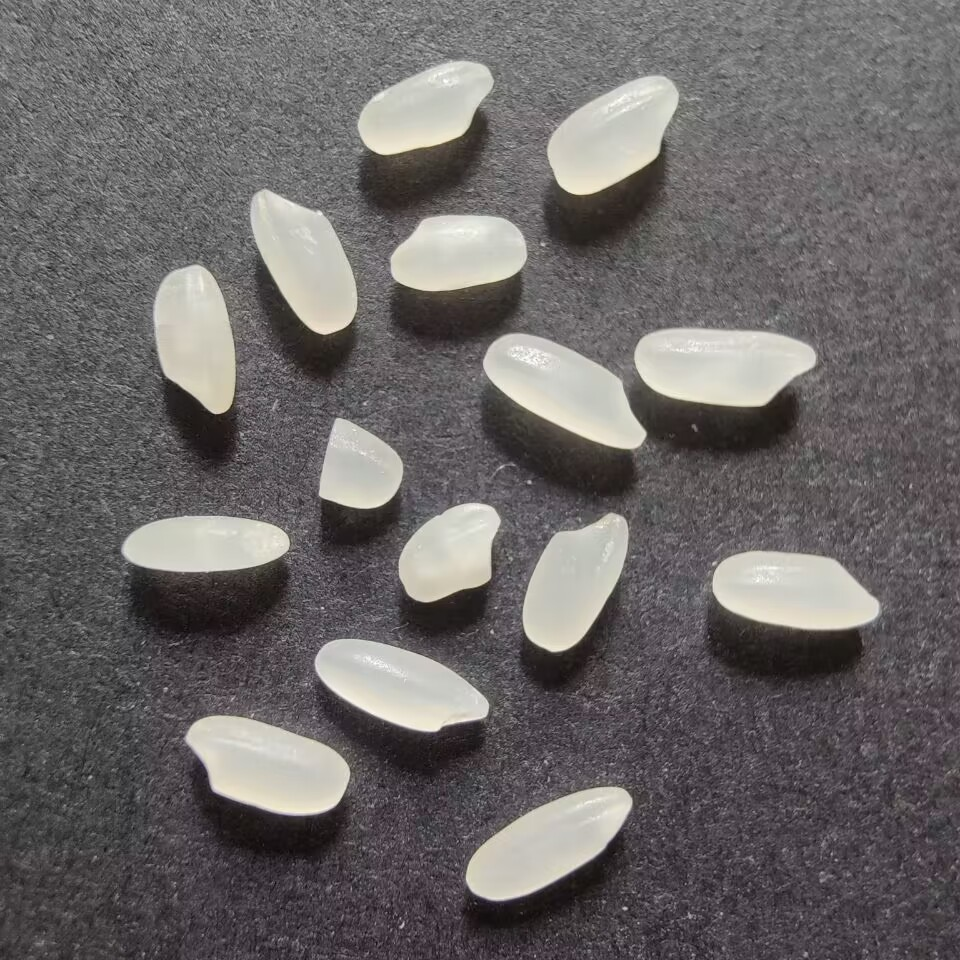broken: (311, 414, 410, 515)
rice: (456, 781, 637, 906), (479, 329, 648, 461), (309, 633, 499, 737), (179, 710, 357, 820), (247, 181, 367, 343), (543, 70, 689, 198), (516, 507, 635, 654), (700, 545, 883, 639), (631, 322, 821, 412), (147, 262, 244, 421), (349, 58, 500, 160), (109, 508, 297, 576), (390, 496, 506, 605), (380, 211, 529, 294)
